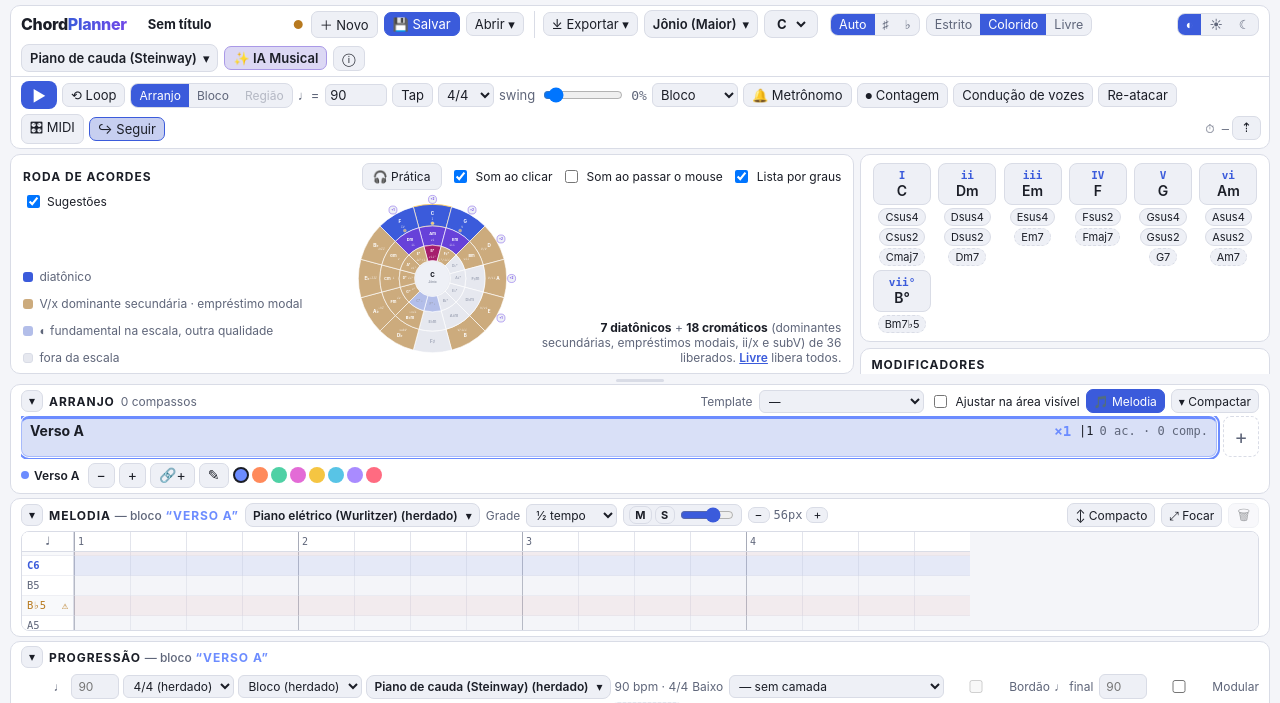
lista por graus › o checkbox esconde e mostra a faixa de graus
This screenshot has width=1280, height=703.
(page scrolled)
Expected: the element with class "degree-strip" is shown, x1=871 y1=163 x2=1259 y2=333
Click the checkbox labelled "Lista por graus": (741, 176) x1=735 y1=170 x2=748 y2=183
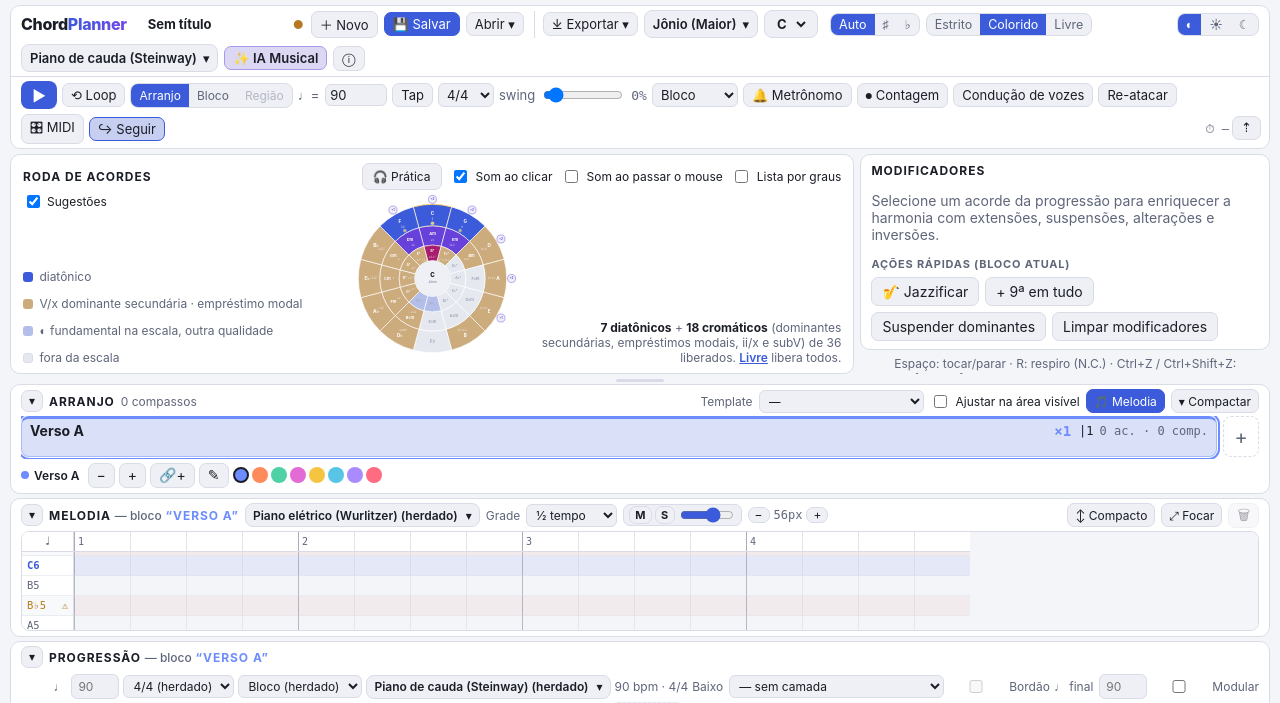
Expected: the element with class "degree-strip" is gone
Click the checkbox labelled "Lista por graus": (741, 176) x1=735 y1=170 x2=748 y2=183
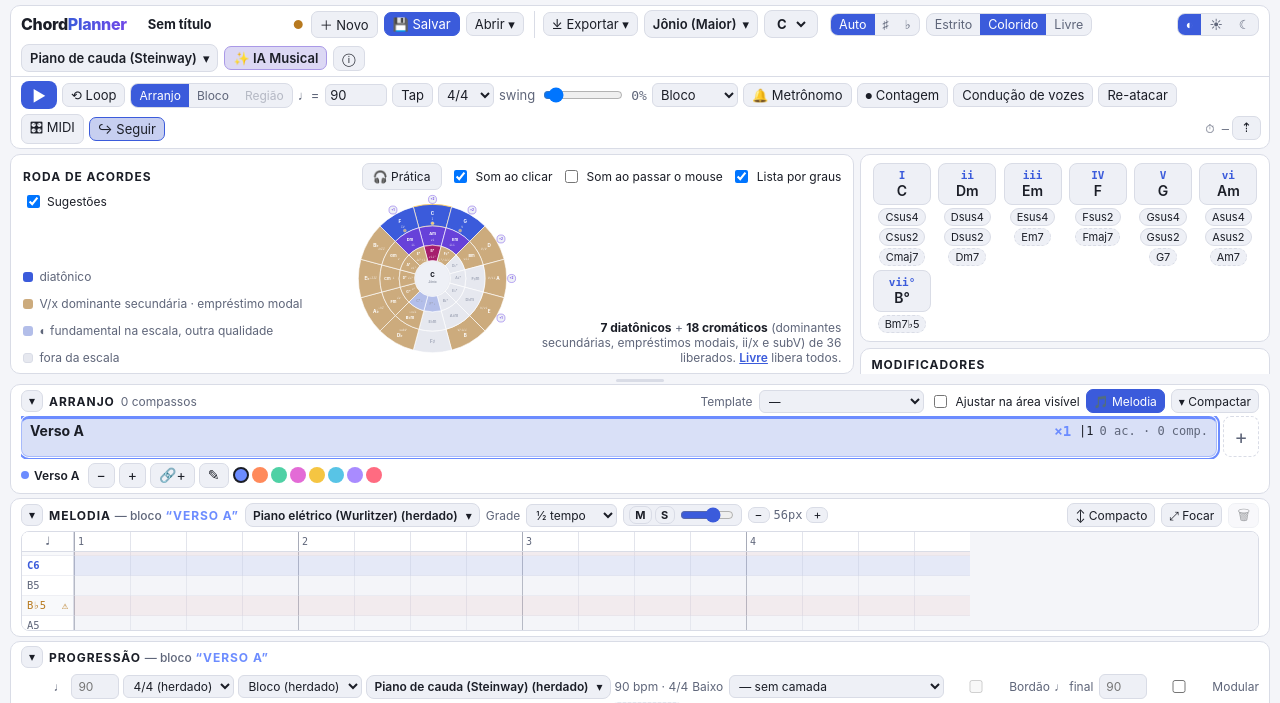
Expected: the element with class "degree-strip" is shown, x1=871 y1=163 x2=1259 y2=333
